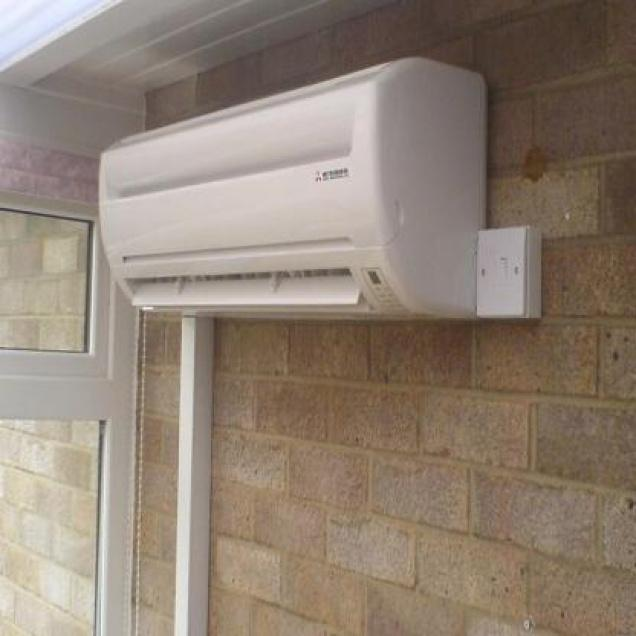AC: (94, 53, 487, 322)
